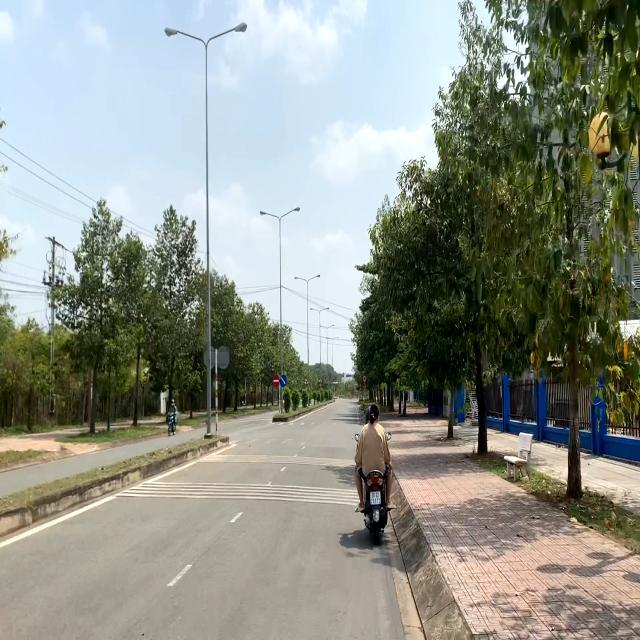P-102: (271, 374, 279, 387)
R-302a: (280, 374, 287, 386)
